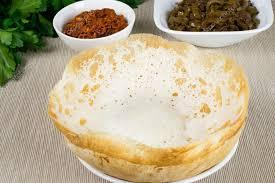Hoppers: (51, 35, 250, 175)
